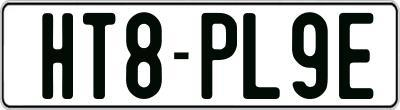8: (124, 10, 161, 101)
9: (290, 9, 331, 98)
E: (339, 10, 375, 99)
H: (42, 11, 77, 101)
L: (241, 10, 282, 98)
P: (200, 10, 239, 96)
T: (83, 11, 117, 101)
